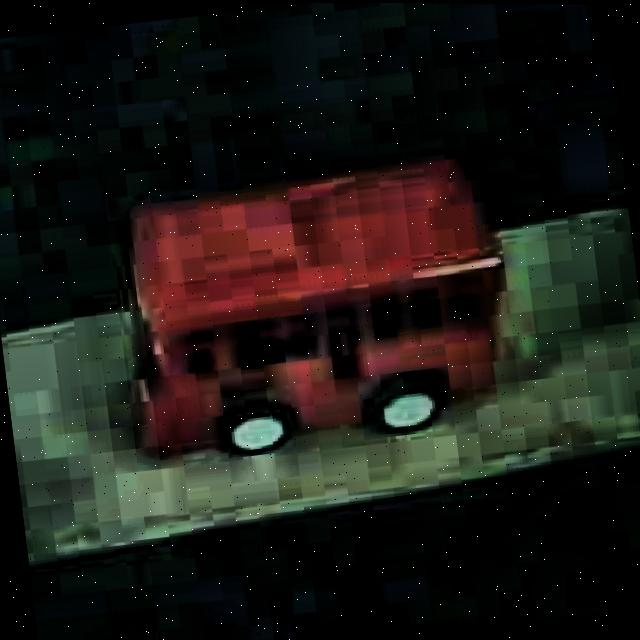bus: (107, 141, 524, 470)
